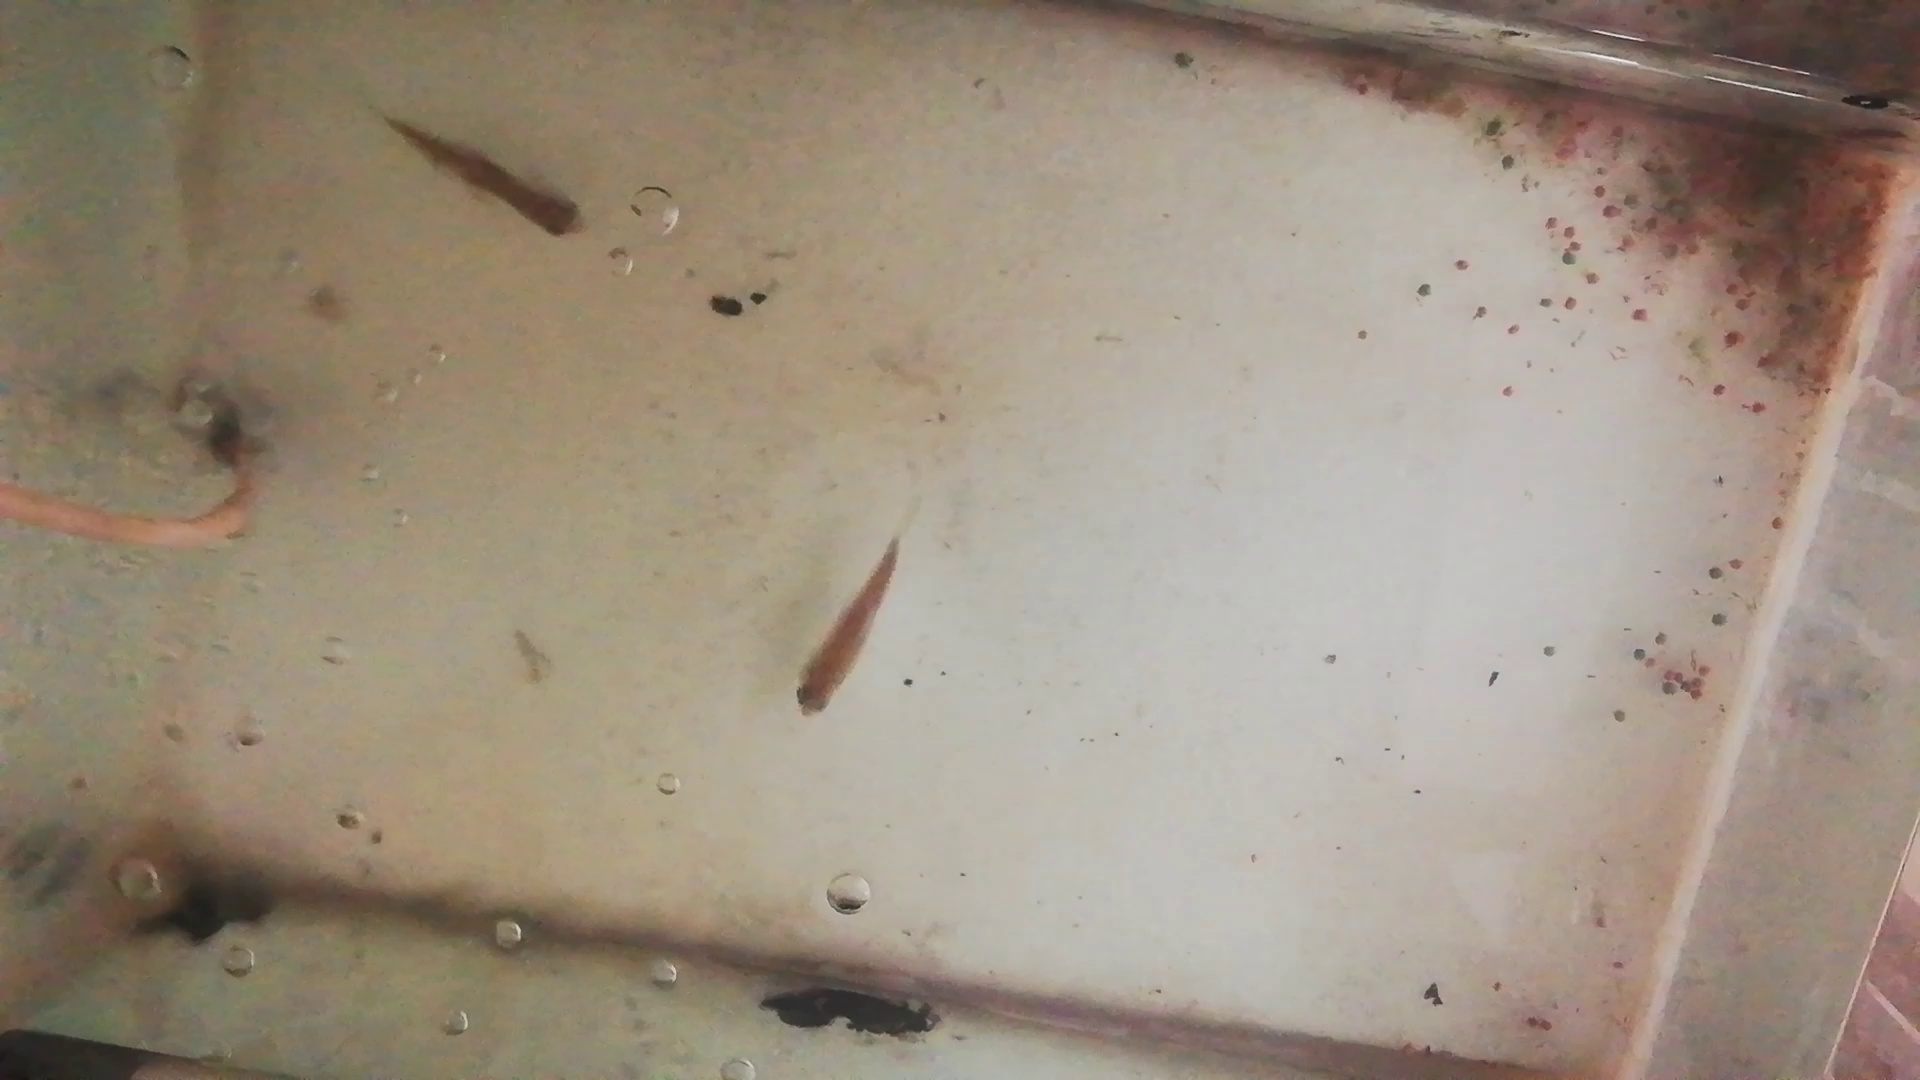fish: (369, 111, 589, 245), (790, 542, 901, 721)
